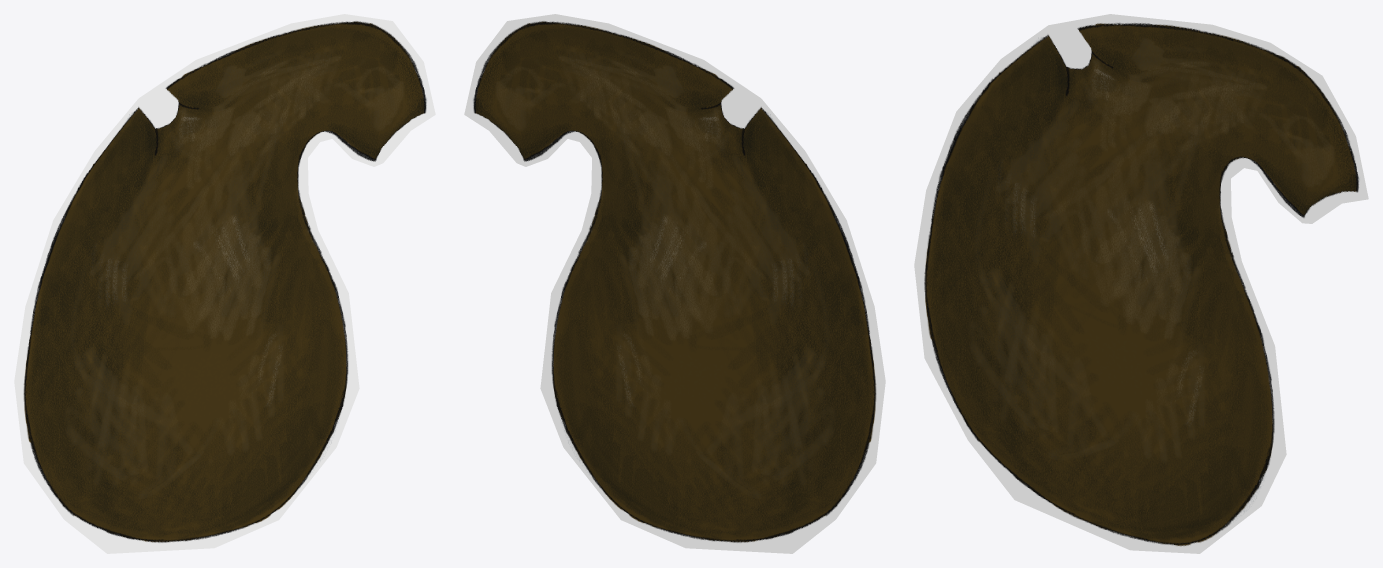
Rendered from mech.glb.
3 views of the same model, side by side, from view 1: azimuth 30°, elevation 25°; view 2: azimuth 150°, elevation 25°; view 3: azimuth 330°, elevation 25° (orthographic). The views are drawn at different scales.
Visible parts, largest first — view 1: Plane.014; view 2: Plane.014; view 3: Plane.014.
Boxes of the visible parts, x1,y1,x2,y2 form: Plane.014: (14, 14, 435, 553); Plane.014: (464, 14, 885, 553); Plane.014: (914, 14, 1368, 553).
Size of the model in its own units: 12.95 by 14.85 by 0.
Materials: 1 (1 with a texture image).
